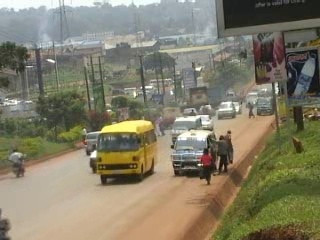Car: (81, 129, 102, 156), (193, 113, 215, 130), (180, 106, 198, 122), (198, 102, 217, 115), (233, 101, 243, 115)
Motorcycle: (7, 145, 28, 178), (0, 203, 17, 239), (89, 141, 99, 175)
